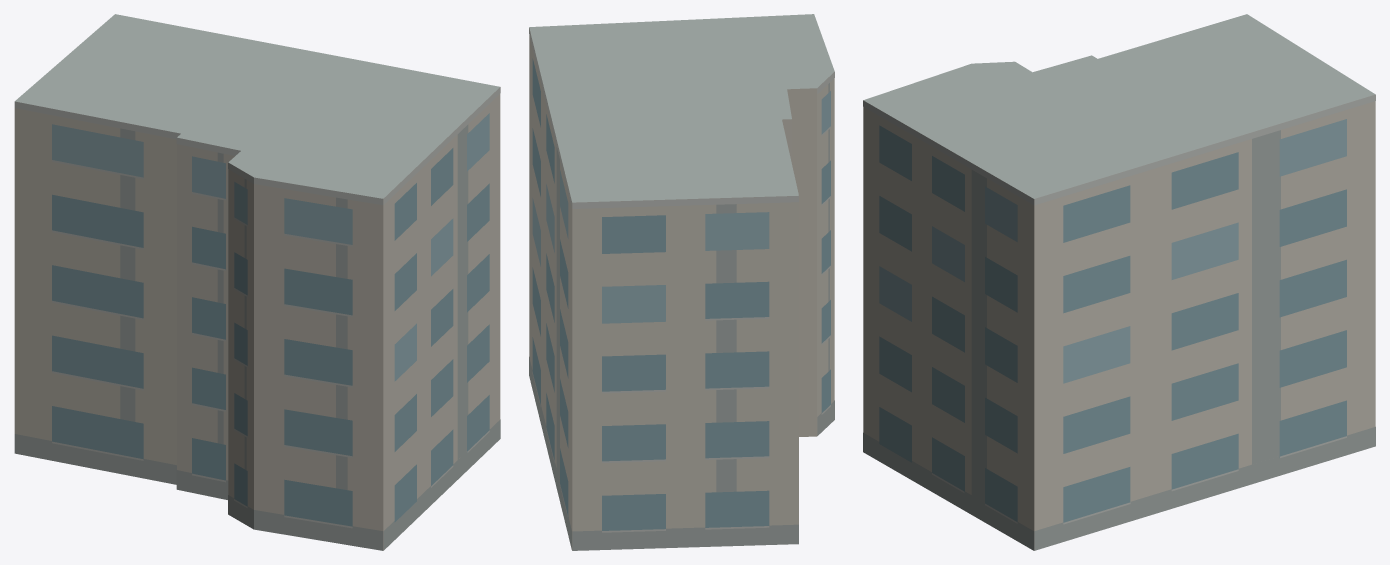
The model's file is survey-upis-33026196.glb.
The picture shows the model from 3 angles, left to right: view 1: azimuth 30°, elevation 25°; view 2: azimuth 150°, elevation 25°; view 3: azimuth 270°, elevation 25°; orthographic projection.
Visible parts, largest first — view 1: survey-upis-33026196.tmp; view 2: survey-upis-33026196.tmp; view 3: survey-upis-33026196.tmp.
Part boxes in pixels (x1=…): survey-upis-33026196.tmp: x1=14, y1=14, x2=500, y2=550; survey-upis-33026196.tmp: x1=529, y1=14, x2=834, y2=550; survey-upis-33026196.tmp: x1=863, y1=14, x2=1375, y2=550.
Size of the model in its own units: 14.78 by 13.1 by 17.3.
